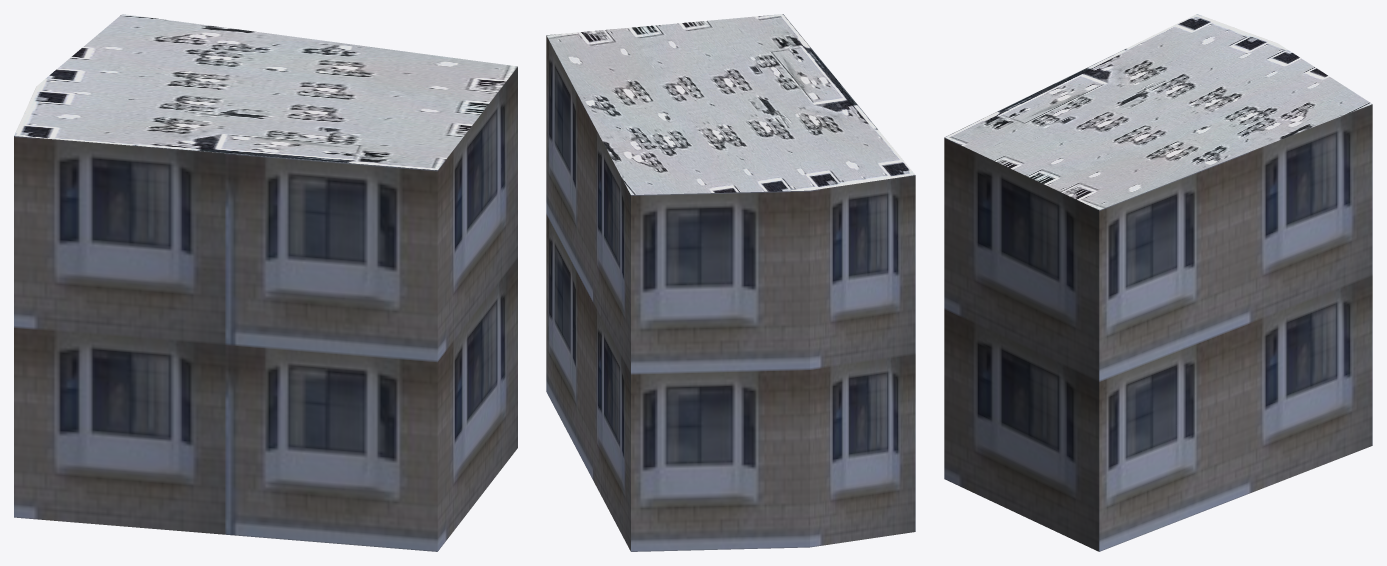
The model's file is ResTex__4351.fbx.
3 views of the same model, side by side, from view 1: azimuth 30°, elevation 25°; view 2: azimuth 150°, elevation 25°; view 3: azimuth 270°, elevation 25° (orthographic). The views are drawn at different scales.
Parts seen in each view (by area): view 1: CityEngineMaterial_3_m, CityEngineMaterial_m; view 2: CityEngineMaterial_3_m, CityEngineMaterial_m; view 3: CityEngineMaterial_3_m, CityEngineMaterial_m.
Part boxes in pixels (bbox=[...]): CityEngineMaterial_3_m: bbox=[14, 67, 517, 551]; CityEngineMaterial_m: bbox=[14, 14, 517, 170]; CityEngineMaterial_3_m: bbox=[546, 35, 915, 551]; CityEngineMaterial_m: bbox=[546, 14, 914, 194]; CityEngineMaterial_3_m: bbox=[944, 104, 1372, 551]; CityEngineMaterial_m: bbox=[944, 14, 1372, 210].
Bounding box in the file's own units: 7.39 × 6 × 6.82.
Materials: 2 (2 with a texture image).
